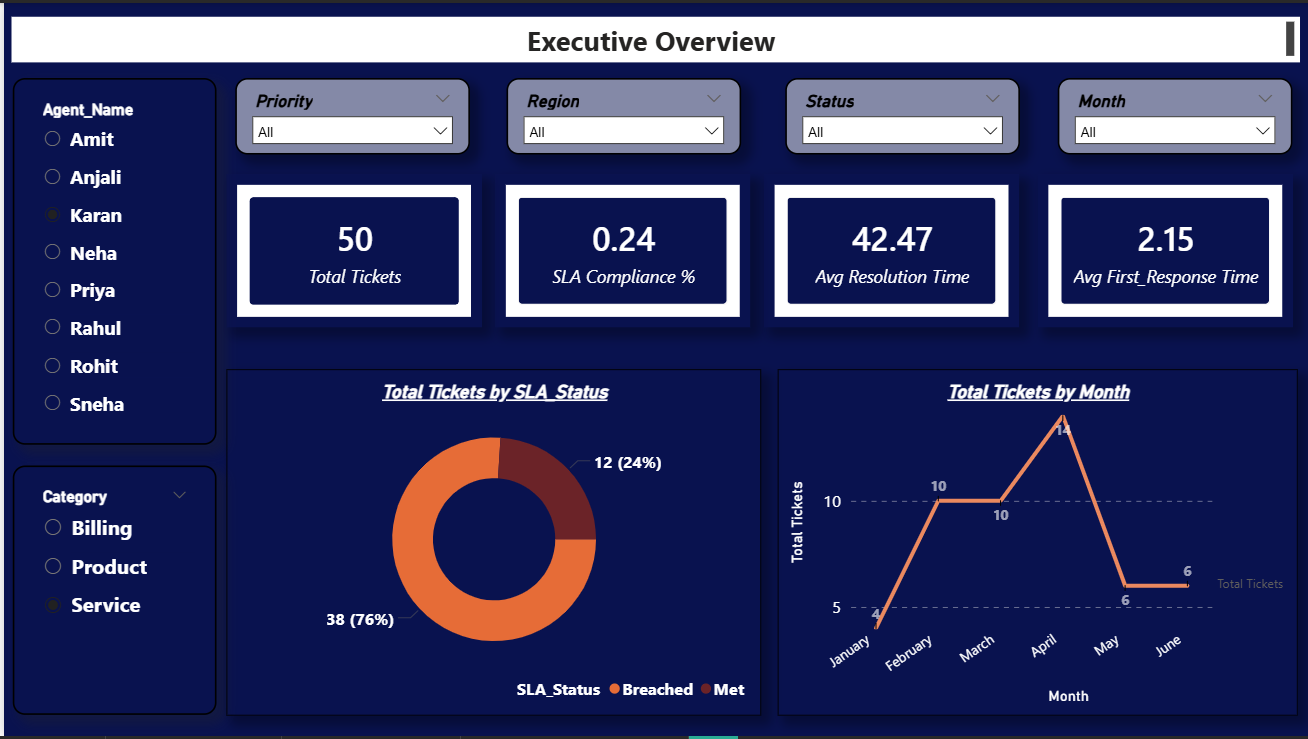

What the dashboard file says about the page in this screenshot:
{"tool":"powerbi","page":{"name":"Executive Overview","canvas":[1280,720],"ordinal":0},"visuals":[{"type":"textbox","box":[7.8,13.3,1264.4,44.4],"z":0},{"type":"slicer","fields":{"Values":["Agent_Data.Agent_Name"]},"box":[8.7,73.9,200,360],"z":1000},{"type":"slicer","fields":{"Values":["Complaints_Data.Category"]},"box":[8.7,453.6,200,244.9],"z":2000},{"type":"slicer","fields":{"Values":["Complaints_Data.Priority"]},"box":[227.5,73.9,230.4,75.4],"z":3000},{"type":"slicer","fields":{"Values":["Complaints_Data.Region"]},"box":[492.8,73.9,230.4,75.4],"z":4000},{"type":"slicer","fields":{"Values":["Complaints_Data.Month"]},"box":[1034.8,73.9,230.4,75.4],"z":5000},{"type":"slicer","fields":{"Values":["Complaints_Data.Status"]},"box":[766.7,73.9,230.4,75.4],"z":6000},{"type":"cardVisual","fields":{"Data":["Complaints_Data.Total Tickets"]},"box":[218.8,168.1,250,150.7],"z":7000},{"type":"cardVisual","fields":{"Data":["Resolution_Data.SLA Compliance %"]},"box":[482.6,168.1,250.7,150.7],"z":8000},{"type":"cardVisual","fields":{"Data":["Resolution_Data.Avg Resolution Time"]},"box":[746.4,168.1,250.7,150.7],"z":9000},{"type":"cardVisual","fields":{"Data":["Resolution_Data.Avg First_Response Time"]},"box":[1014.5,168.1,250,150.7],"z":10000},{"type":"donutChart","fields":{"Category":["Resolution_Data.SLA_Status"],"Y":["Complaints_Data.Total Tickets"]},"box":[218.8,359.4,525,340],"z":11000},{"type":"lineChart","fields":{"Category":["Complaints_Data.Complaint_Date.Variation.Date Hierarchy.Year","Complaints_Data.Complaint_Date.Variation.Date Hierarchy.Quarter","Complaints_Data.Complaint_Date.Variation.Date Hierarchy.Month","Complaints_Data.Complaint_Date.Variation.Date Hierarchy.Day"],"Y":["Complaints_Data.Total Tickets"]},"box":[759.4,359.4,510,340],"z":12000}]}

Visuals, with their boxes in screenshot pixels (x1, y1, x2, y2), scaled from the page's 1280x720 canvas onto the 1308x739 screenshot:
textbox: [8,14,1300,59]
slicer - Agent_Data.Agent_Name: [9,76,213,445]
slicer - Complaints_Data.Category: [9,466,213,717]
slicer - Complaints_Data.Priority: [232,76,468,153]
slicer - Complaints_Data.Region: [504,76,739,153]
slicer - Complaints_Data.Month: [1057,76,1293,153]
slicer - Complaints_Data.Status: [783,76,1019,153]
cardVisual - Complaints_Data.Total Tickets: [224,173,479,327]
cardVisual - Resolution_Data.SLA Compliance %: [493,173,749,327]
cardVisual - Resolution_Data.Avg Resolution Time: [763,173,1019,327]
cardVisual - Resolution_Data.Avg First_Response Time: [1037,173,1292,327]
donutChart - Resolution_Data.SLA_Status x Complaints_Data.Total Tickets: [224,369,760,718]
lineChart - Complaints_Data.Complaint_Date.Variation.Date Hierarchy.Year x Complaints_Data.Complaint_Date.Variation.Date Hierarchy.Quarter: [776,369,1297,718]
